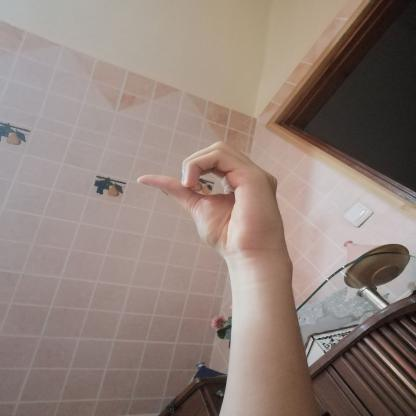WAW: (122, 134, 298, 269)
